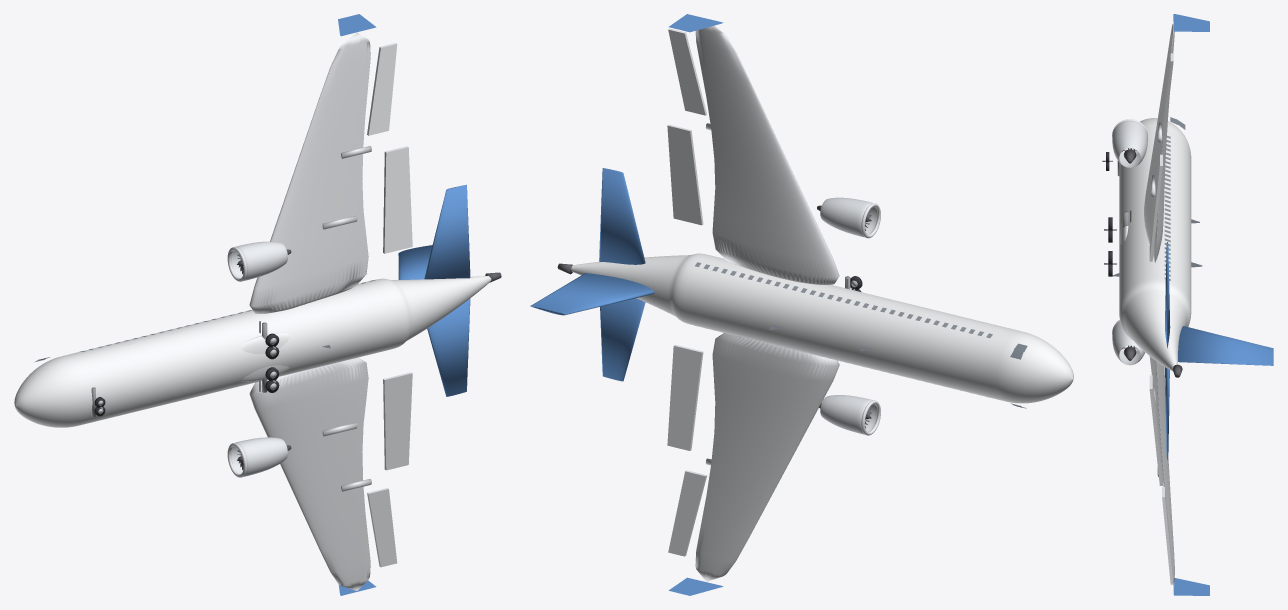
3 views of the same model, side by side, from view 1: azimuth 30°, elevation 25°; view 2: azimuth 150°, elevation 25°; view 3: azimuth 270°, elevation 25° (orthographic).
Parts seen in each view (by area): view 1: Fuselage, Wing_R, Wing_L, HStab_R, Flap_R, HStab_L, Flap_L, Aileron_R, Aileron_L, Nacelle_-1_0, Nacelle_1_0, Fin (+1 smaller); view 2: Fuselage, Wing_L, Wing_R, HStab_R, Fin, Flap_L, HStab_L, Flap_R, Aileron_L, Aileron_R, Nacelle_-1_0, Nacelle_1_0 (+1 smaller); view 3: Fuselage, Fin, Wing_R, Wing_L, Nacelle_1_0, Nacelle_-1_0, Sharklet_R, Sharklet_L, Flap_L, Flap_R, Windows_1_70, Aileron_L (+3 smaller).
Boxes of the visible parts, x1,y1,x2,y2 form: Fuselage: (14, 276, 491, 427); Wing_R: (249, 32, 370, 313); Wing_L: (249, 357, 370, 590); HStab_R: (424, 184, 470, 279); Flap_R: (383, 146, 412, 253); HStab_L: (427, 298, 470, 396); Flap_L: (383, 372, 412, 470); Aileron_R: (367, 43, 397, 135); Aileron_L: (367, 488, 397, 567); Nacelle_-1_0: (231, 437, 287, 476); Nacelle_1_0: (231, 241, 287, 280); Fin: (398, 245, 432, 279); Fuselage: (571, 253, 1073, 403); Wing_L: (695, 333, 839, 581); Wing_R: (695, 25, 839, 284); HStab_R: (599, 168, 645, 264); Fin: (530, 273, 654, 315); Flap_L: (667, 344, 703, 450); HStab_L: (600, 298, 645, 381); Flap_R: (667, 124, 703, 225); Aileron_L: (668, 470, 706, 556); Aileron_R: (668, 28, 707, 115); Nacelle_-1_0: (820, 395, 877, 434); Nacelle_1_0: (820, 197, 877, 237); Fuselage: (1119, 118, 1191, 371); Fin: (1178, 326, 1273, 365); Wing_R: (1144, 23, 1174, 262); Wing_L: (1149, 356, 1174, 585); Nacelle_1_0: (1112, 120, 1147, 167); Nacelle_-1_0: (1112, 321, 1144, 365); Sharklet_R: (1173, 14, 1209, 31); Sharklet_L: (1173, 578, 1209, 595); Flap_L: (1149, 375, 1162, 485); Flap_R: (1149, 154, 1162, 261); Windows_1_70: (1164, 136, 1170, 280); Aileron_L: (1162, 487, 1173, 584).
Bounding box in the file's own units: 31.74 × 34.1 × 9.4.
